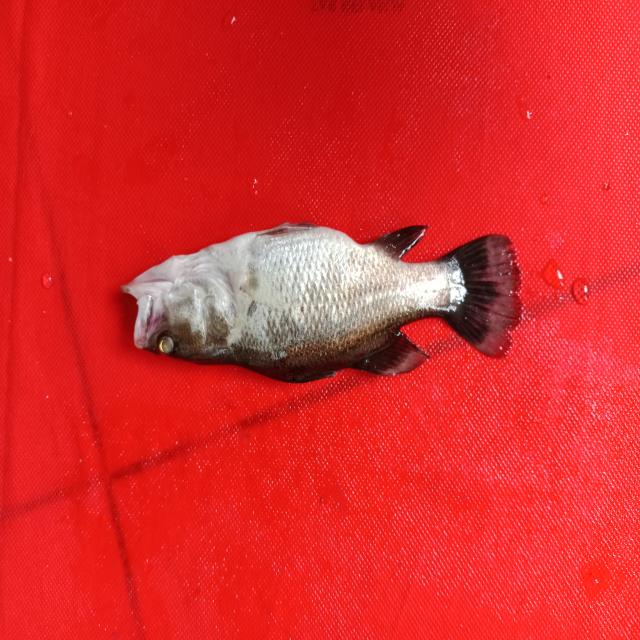ikan: (105, 190, 544, 397)
